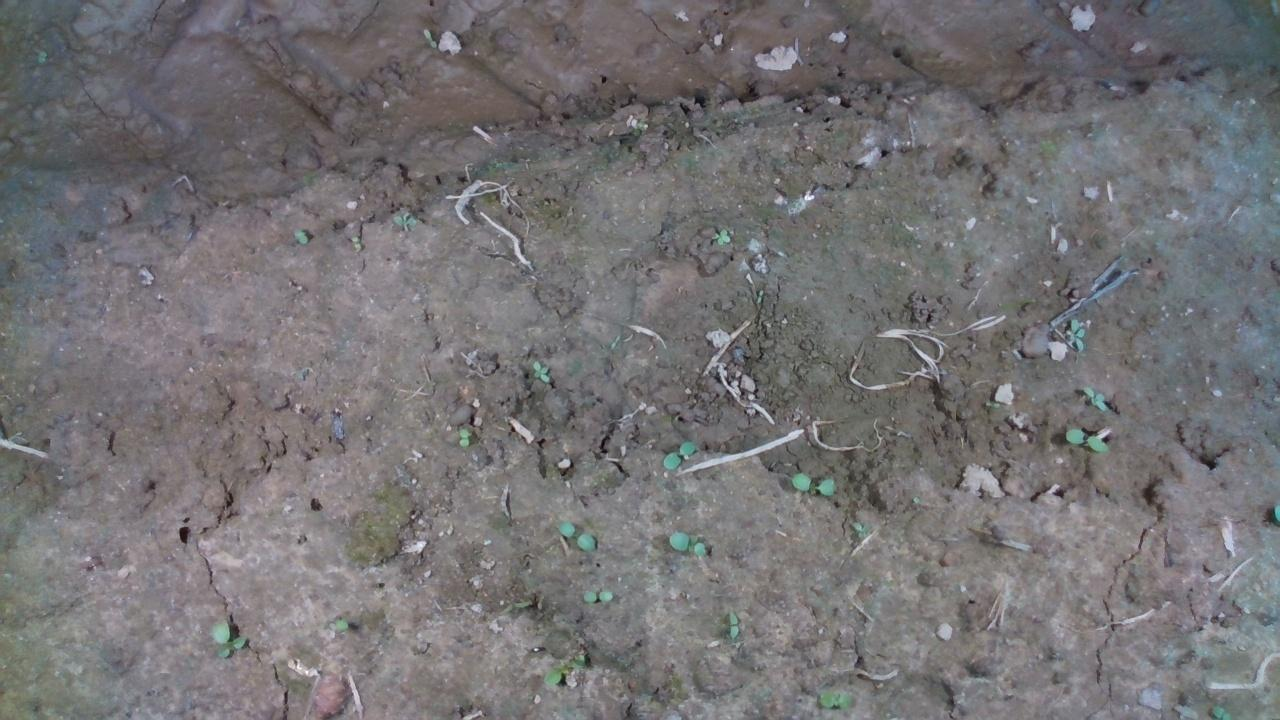weed: (790, 465, 846, 500), (1064, 424, 1117, 459), (210, 616, 251, 661), (664, 521, 712, 555), (552, 516, 596, 551), (658, 436, 689, 470), (1063, 315, 1091, 352), (1079, 380, 1110, 412), (722, 606, 748, 641), (581, 581, 616, 598), (527, 357, 550, 382), (293, 226, 317, 247), (327, 614, 345, 633)
